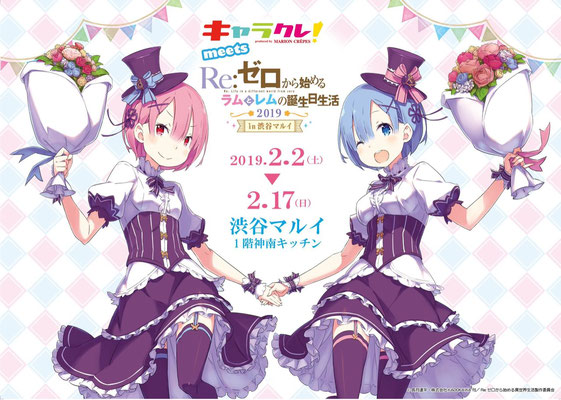rem: (324, 51, 460, 393)
